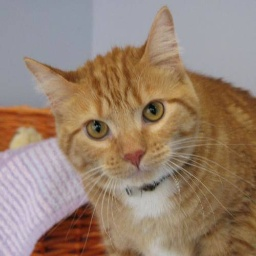cat: (27, 4, 256, 256)
